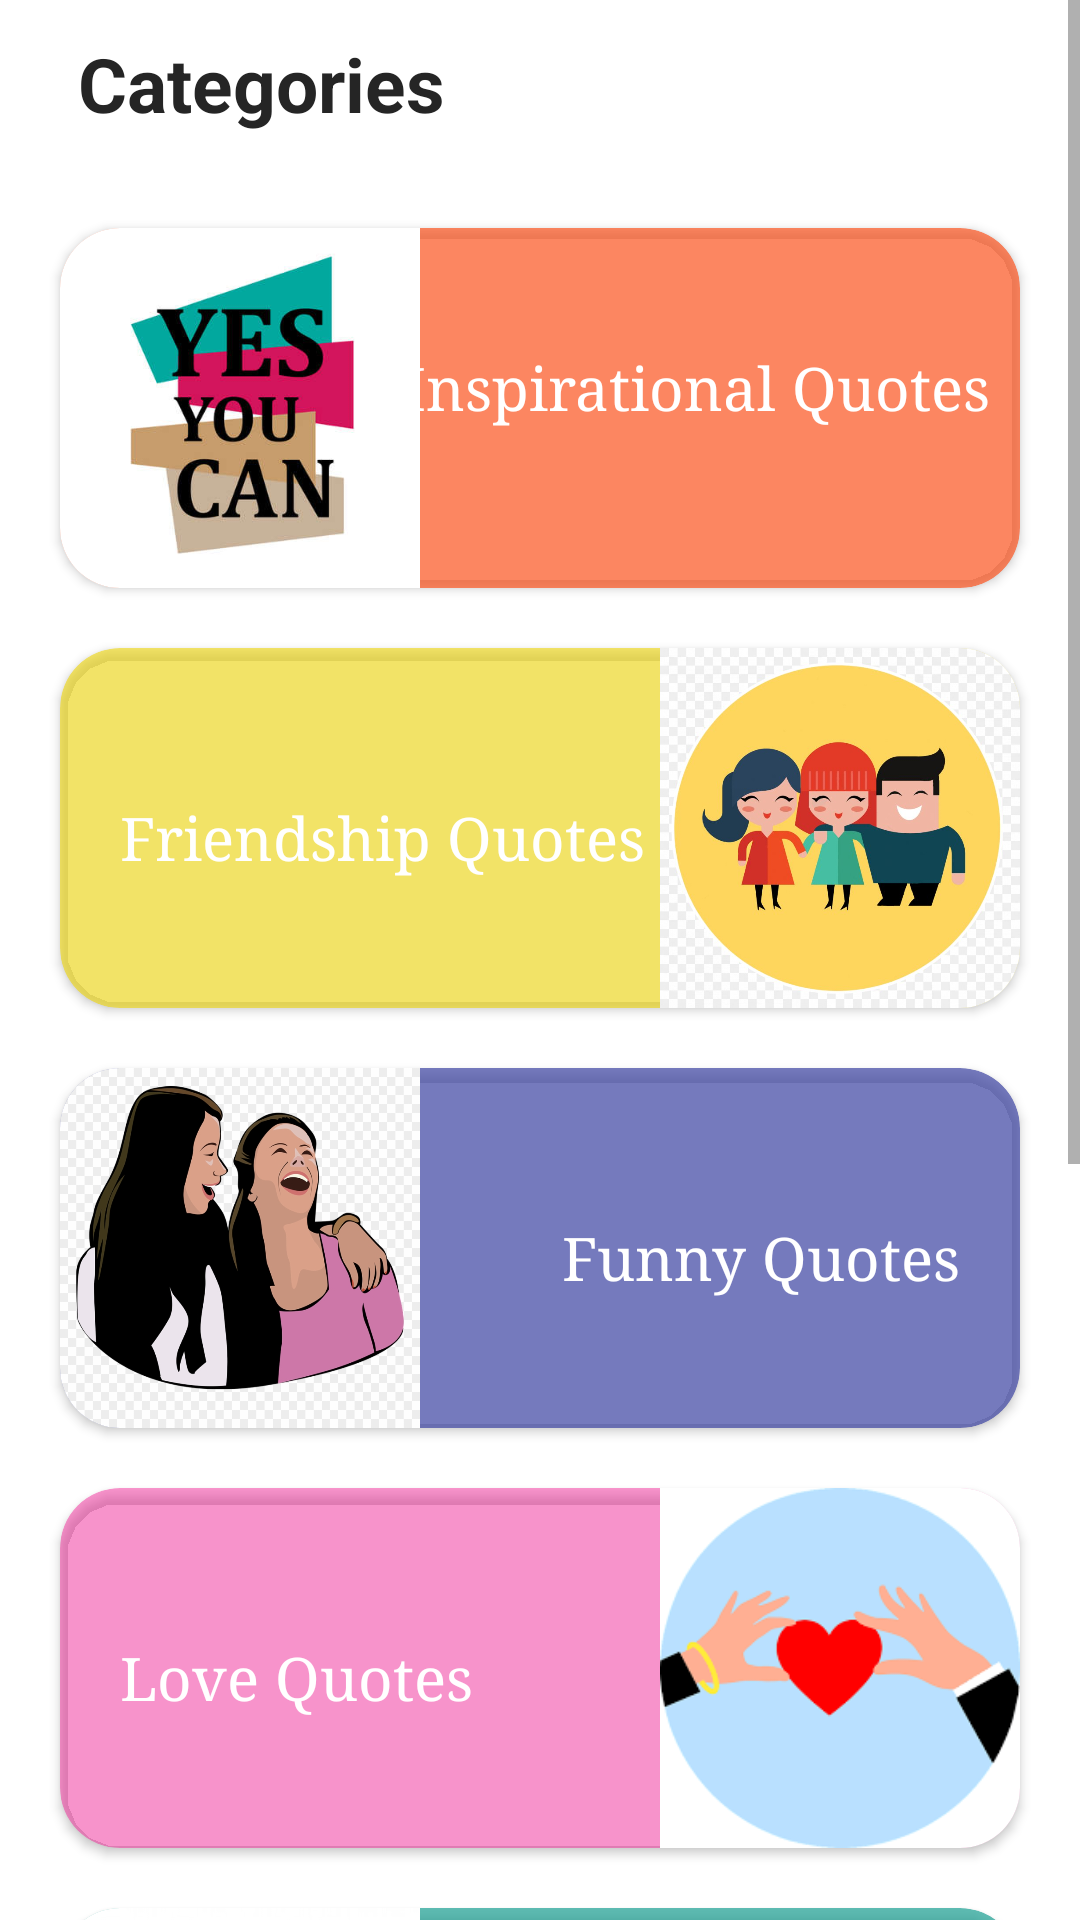

Icons on this 1080×1920 Android screen, each with its box as [left=x1, top=y1, right=x2, bottom=y2]:
frienship: [left=674, top=648, right=1019, bottom=992]
inspiration quote: [left=64, top=228, right=354, bottom=554]
